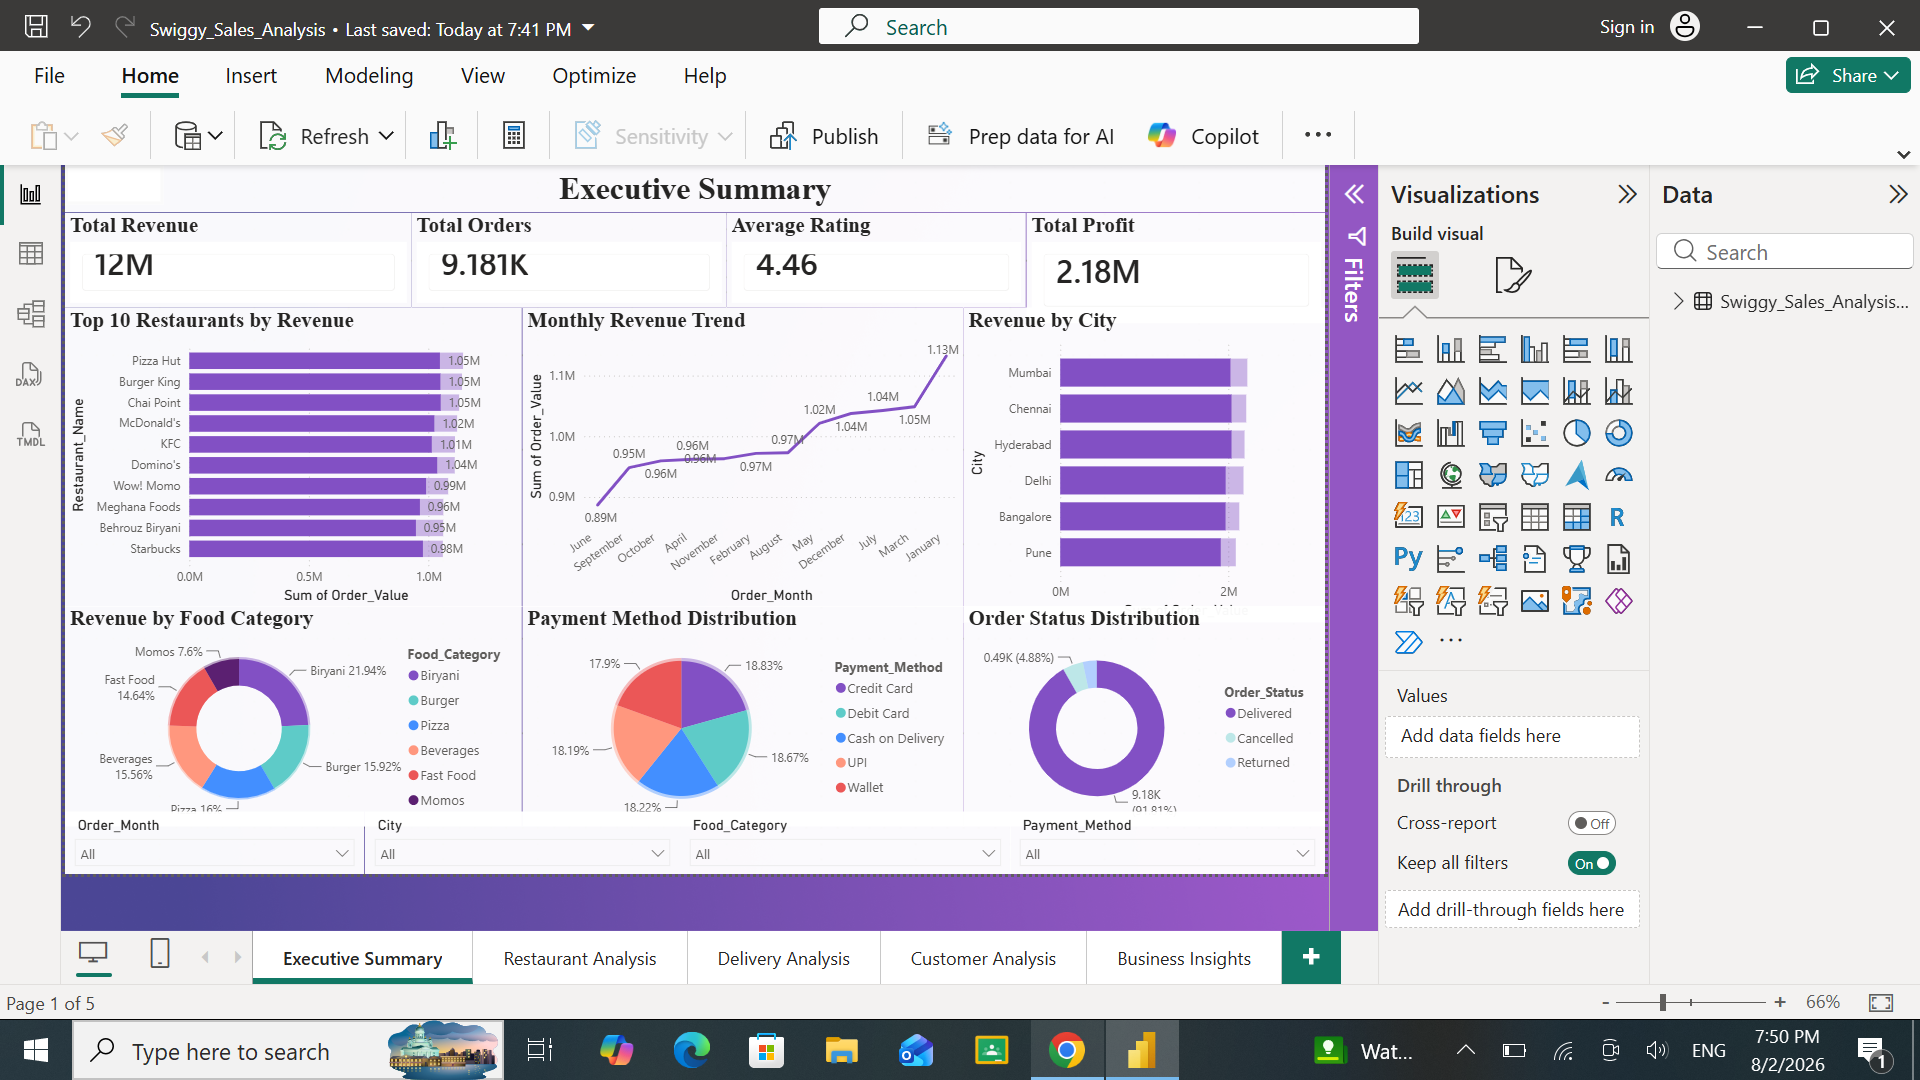

Layout of this report page (visuals, bound fields, positions):
{"tool":"powerbi","page":{"name":"Executive Summary","canvas":[1280,720],"ordinal":0},"visuals":[{"type":"cardVisual","title":"Total Revenue","fields":{"Data":["Sum(Swiggy_Sales_Analysis_Dataset_10000.Order_Value)"]},"box":[0,32,352,112],"z":0},{"type":"cardVisual","title":"Total Orders","fields":{"Data":["Count(Swiggy_Sales_Analysis_Dataset_10000.Order_ID)"]},"box":[352,32,320,112],"z":1000},{"type":"cardVisual","title":"Average Rating","fields":{"Data":["Avg(Swiggy_Sales_Analysis_Dataset_10000.Customer_Rating)"]},"box":[672,32,304,112],"z":2000},{"type":"cardVisual","title":"Total Profit","fields":{"Data":["Sum(Swiggy_Sales_Analysis_Dataset_10000.Profit)"]},"box":[976,32,304,128],"z":3000},{"type":"clusteredBarChart","title":"Top 10 Restaurants by Revenue","fields":{"Category":["Swiggy_Sales_Analysis_Dataset_10000.Restaurant_Name"],"Y":["Sum(Swiggy_Sales_Analysis_Dataset_10000.Order_Value)"]},"box":[0,144,464,304],"z":4000},{"type":"lineChart","title":"Monthly Revenue Trend","fields":{"Category":["Swiggy_Sales_Analysis_Dataset_10000.Order_Month"],"Y":["Sum(Swiggy_Sales_Analysis_Dataset_10000.Order_Value)"]},"box":[464,144,448,304],"z":5000},{"type":"donutChart","title":"Revenue by Food Category","fields":{"Category":["Swiggy_Sales_Analysis_Dataset_10000.Food_Category"],"Y":["Sum(Swiggy_Sales_Analysis_Dataset_10000.Order_Value)"]},"box":[0,448,464,224],"z":6000},{"type":"pieChart","title":"Payment Method Distribution","fields":{"Category":["Swiggy_Sales_Analysis_Dataset_10000.Payment_Method"],"Y":["CountNonNull(Swiggy_Sales_Analysis_Dataset_10000.Order_ID)"]},"box":[464,448,448,224],"z":7000},{"type":"clusteredBarChart","title":"Revenue by City","fields":{"Category":["Swiggy_Sales_Analysis_Dataset_10000.City"],"Y":["Sum(Swiggy_Sales_Analysis_Dataset_10000.Order_Value)"]},"box":[912,144,368,320],"z":8000},{"type":"donutChart","title":"Order Status Distribution","fields":{"Category":["Swiggy_Sales_Analysis_Dataset_10000.Order_Status"],"Y":["CountNonNull(Swiggy_Sales_Analysis_Dataset_10000.Order_ID)"]},"box":[912,448,368,224],"z":9000},{"type":"slicer","fields":{"Values":["Swiggy_Sales_Analysis_Dataset_10000.Order_Month"]},"box":[0,656,304,64],"z":10000},{"type":"slicer","fields":{"Values":["Swiggy_Sales_Analysis_Dataset_10000.City"]},"box":[304,656,320,64],"z":11000},{"type":"slicer","fields":{"Values":["Swiggy_Sales_Analysis_Dataset_10000.Food_Category"]},"box":[624,656,336,64],"z":12000},{"type":"slicer","fields":{"Values":["Swiggy_Sales_Analysis_Dataset_10000.Payment_Method"]},"box":[960,656,320,64],"z":13000},{"type":"actionButton","box":[0,0,80,32],"z":13001},{"type":"actionButton","box":[0,0,100,40],"z":13002},{"type":"textbox","box":[0,0,1280,64],"z":13003}]}

Visuals, with their boxes on the page's 1280x720 design canvas (x1, y1, x2, y2). These are canvas units, not pixel positions in the 1920x1080 screenshot, which may show the page scaled, cropped or inside an application window:
"Total Revenue" cardVisual: select_region(0, 32, 352, 144)
"Total Orders" cardVisual: select_region(352, 32, 672, 144)
"Average Rating" cardVisual: select_region(672, 32, 976, 144)
"Total Profit" cardVisual: select_region(976, 32, 1280, 160)
"Top 10 Restaurants by Revenue" clusteredBarChart: select_region(0, 144, 464, 448)
"Monthly Revenue Trend" lineChart: select_region(464, 144, 912, 448)
"Revenue by Food Category" donutChart: select_region(0, 448, 464, 672)
"Payment Method Distribution" pieChart: select_region(464, 448, 912, 672)
"Revenue by City" clusteredBarChart: select_region(912, 144, 1280, 464)
"Order Status Distribution" donutChart: select_region(912, 448, 1280, 672)
slicer - Swiggy_Sales_Analysis_Dataset_10000.Order_Month: select_region(0, 656, 304, 720)
slicer - Swiggy_Sales_Analysis_Dataset_10000.City: select_region(304, 656, 624, 720)
slicer - Swiggy_Sales_Analysis_Dataset_10000.Food_Category: select_region(624, 656, 960, 720)
slicer - Swiggy_Sales_Analysis_Dataset_10000.Payment_Method: select_region(960, 656, 1280, 720)
actionButton: select_region(0, 0, 80, 32)
actionButton: select_region(0, 0, 100, 40)
textbox: select_region(0, 0, 1280, 64)
